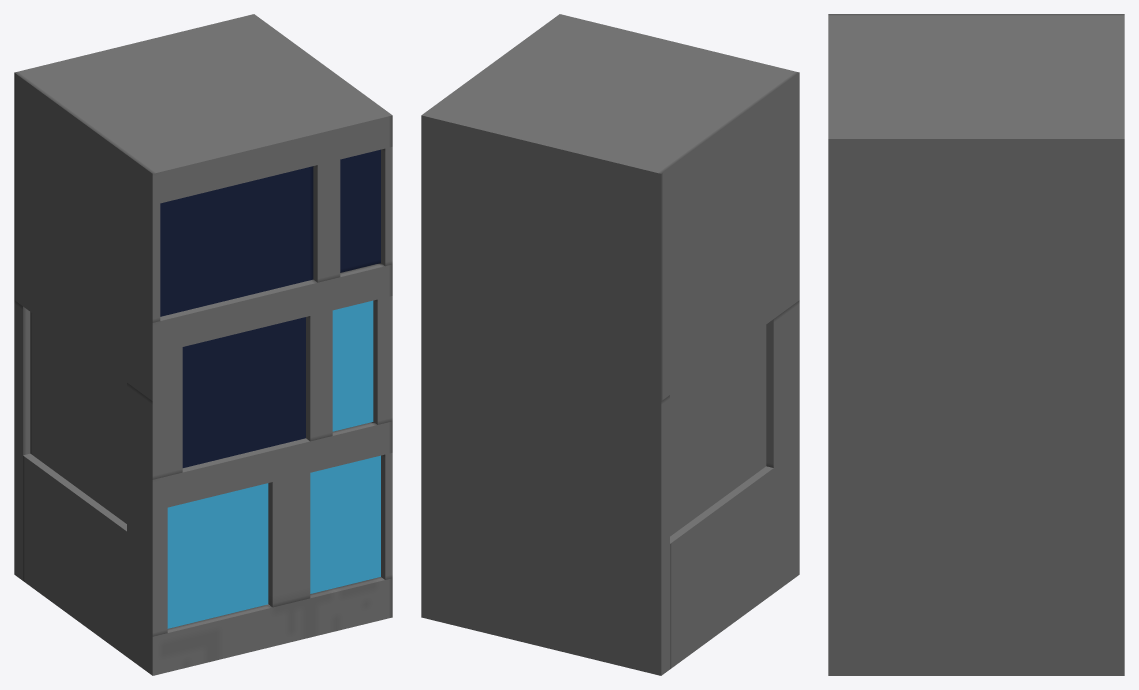
Rendered from PIĘTRO_00002.dae.
The picture shows the model from 3 angles, left to right: view 1: azimuth 30°, elevation 25°; view 2: azimuth 150°, elevation 25°; view 3: azimuth 270°, elevation 25°; orthographic projection. The views are drawn at different scales.
Visible parts, largest first — view 1: Content; view 2: Content; view 3: Content.
Part boxes in pixels (x1,y1,x2,y2): Content: (14,14,392,675); Content: (421,14,799,675); Content: (828,14,1124,675).
Bounding box in the file's own units: 32 × 64 × 32.
Materials: 1 (1 with a texture image).
